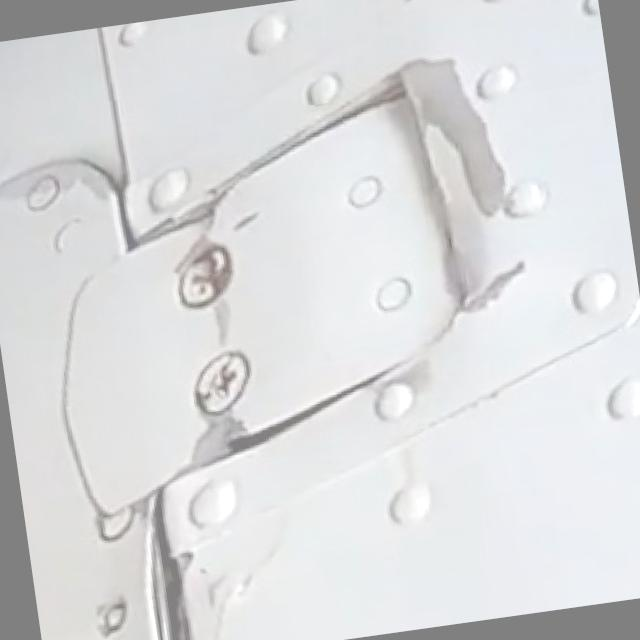crack: (205, 302, 240, 342)
